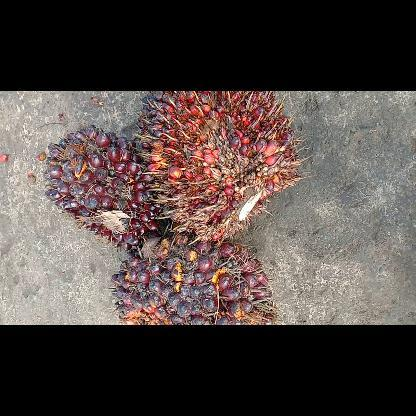Kurang masak: (112, 234, 274, 324), (44, 127, 156, 246)
TBS masak: (136, 90, 300, 235)
